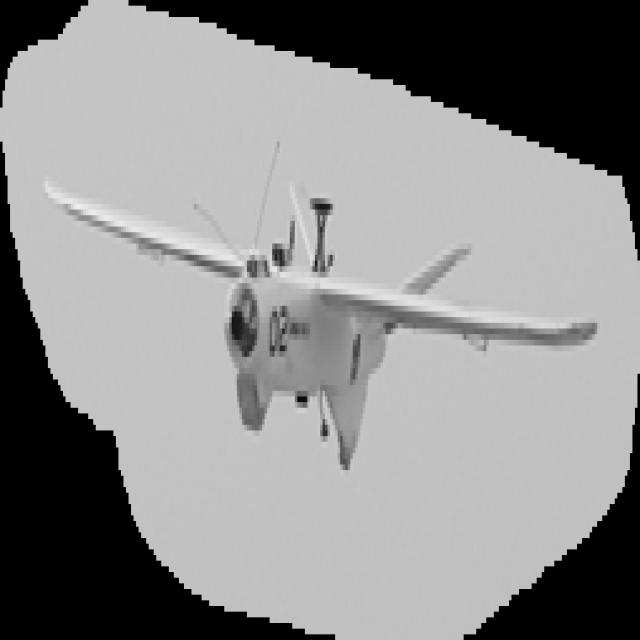iha: (50, 141, 595, 464), (5, 181, 595, 464)
